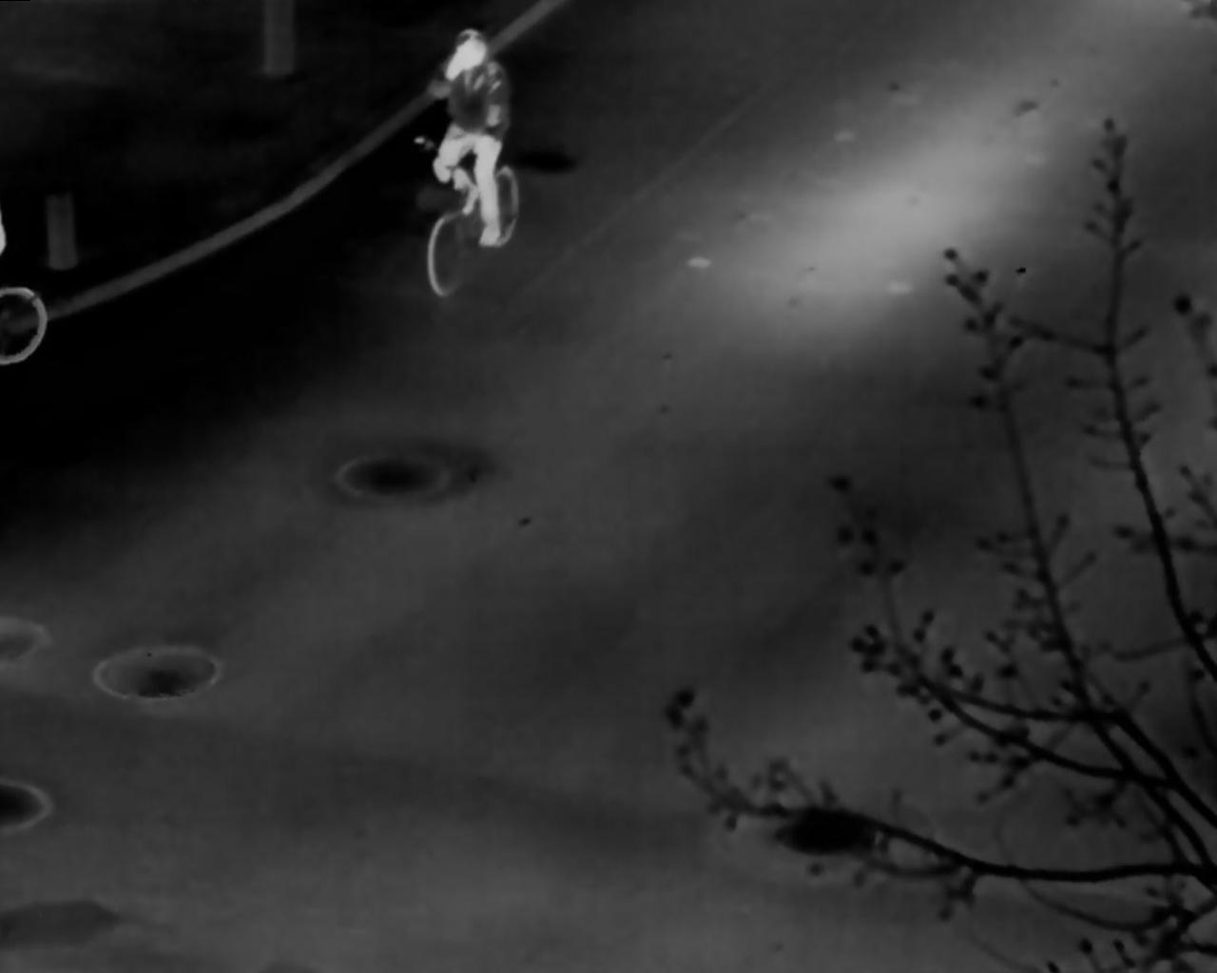person: (432, 27, 511, 246)
